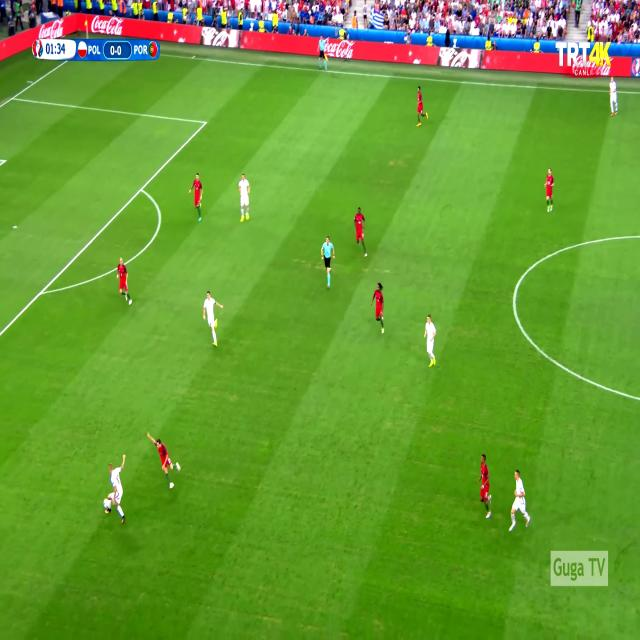ball: (103, 497, 109, 510)
team1: (150, 430, 187, 499), (479, 452, 496, 523), (116, 254, 137, 310), (371, 281, 389, 336), (190, 171, 208, 225), (354, 205, 372, 258), (544, 166, 559, 216), (416, 84, 431, 127)
team2: (508, 470, 532, 535), (108, 457, 131, 523), (202, 290, 224, 350), (236, 172, 255, 227), (604, 76, 624, 124), (423, 316, 440, 370)
